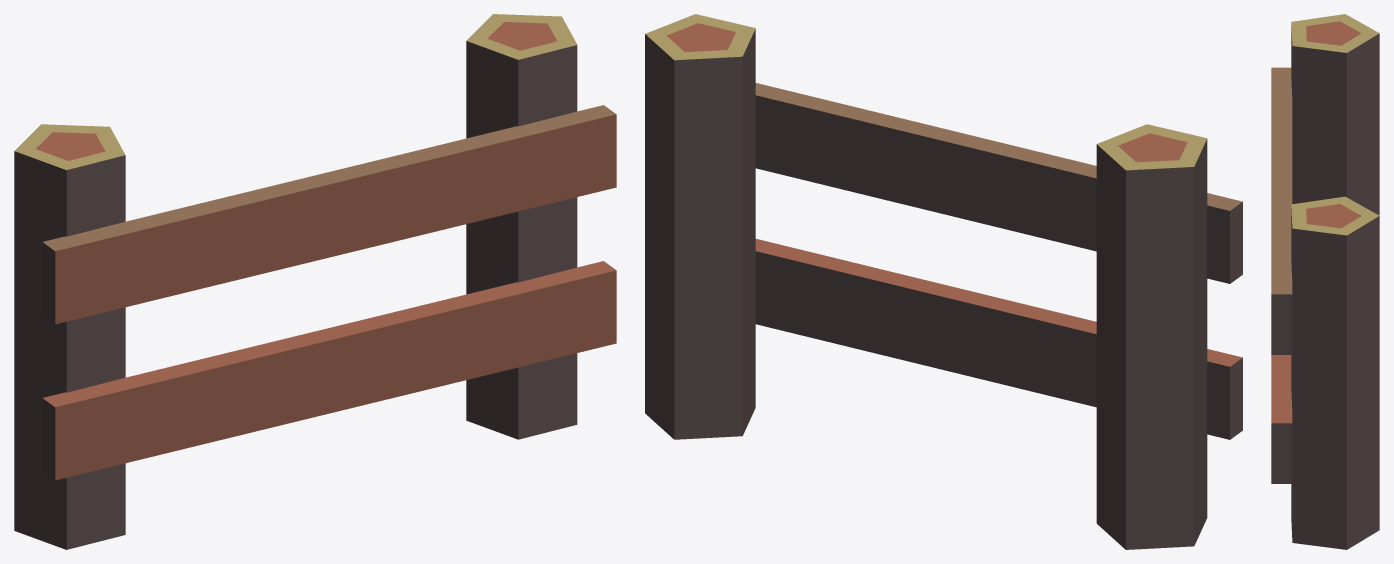
The model's file is TB_D_Bd_Fence_B.FBX.
3 renders of one model, left to right at view 1: azimuth 30°, elevation 25°; view 2: azimuth 150°, elevation 25°; view 3: azimuth 270°, elevation 25°, orthographic. The views are drawn at different scales.
Parts seen in each view (by area): view 1: TB_D_Bd_Fence_B; view 2: TB_D_Bd_Fence_B; view 3: TB_D_Bd_Fence_B.
Part boxes in pixels (left/top/right/bottom): TB_D_Bd_Fence_B: left=14, top=14, right=616, bottom=549; TB_D_Bd_Fence_B: left=645, top=14, right=1242, bottom=549; TB_D_Bd_Fence_B: left=1271, top=14, right=1379, bottom=549.
Size of the model in its own units: 2.25 by 1.46 by 0.4557.
